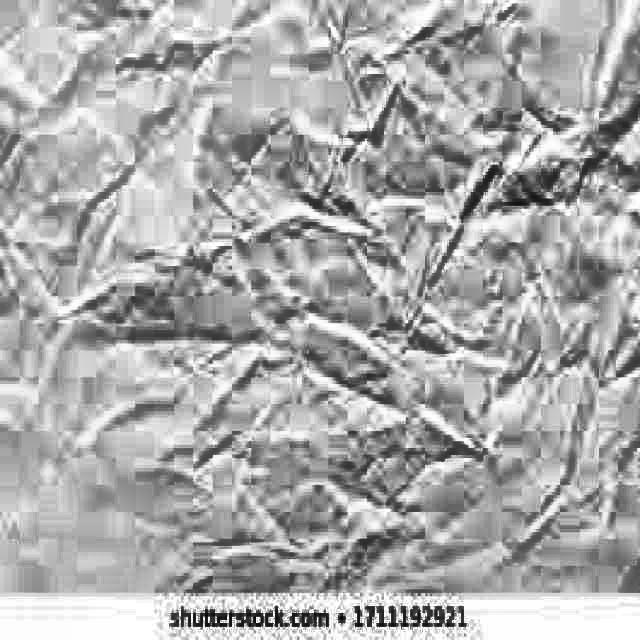Paper: (0, 0, 637, 589)
